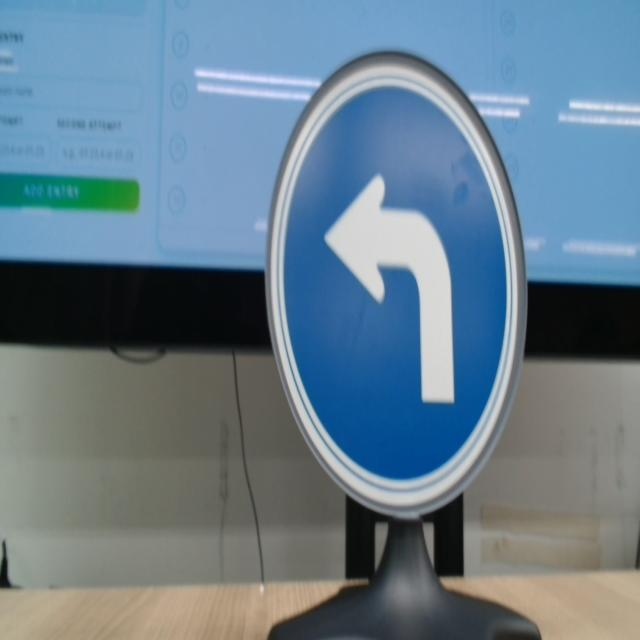left_direction: (255, 43, 536, 527)
